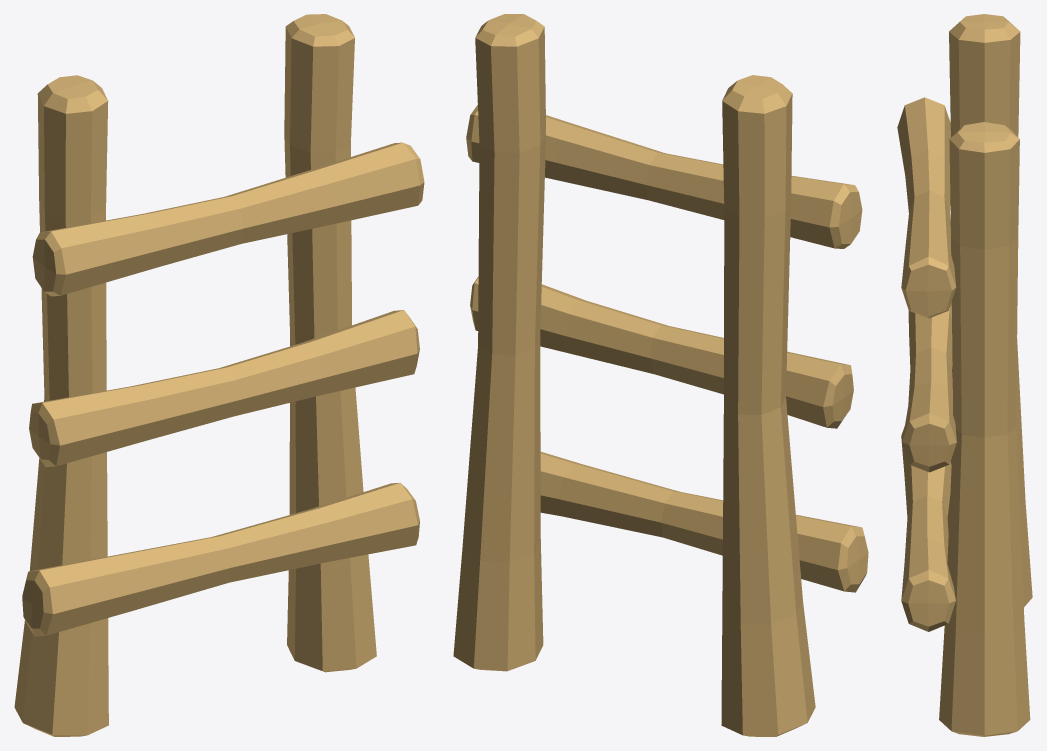
Rendered from ladder.01.glb.
3 renders of one model, left to right at view 1: azimuth 30°, elevation 25°; view 2: azimuth 150°, elevation 25°; view 3: azimuth 270°, elevation 25°, orthographic. The views are drawn at different scales.
Visible parts, largest first — view 1: Plane.133; view 2: Plane.133; view 3: Plane.133.
Part boxes in pixels (bbox=[...]): Plane.133: bbox=[14, 14, 424, 736]; Plane.133: bbox=[453, 14, 868, 736]; Plane.133: bbox=[897, 14, 1032, 736].
Size of the model in its own units: 0.5075 by 0.8118 by 0.1681.
1 material, 1 textured.
